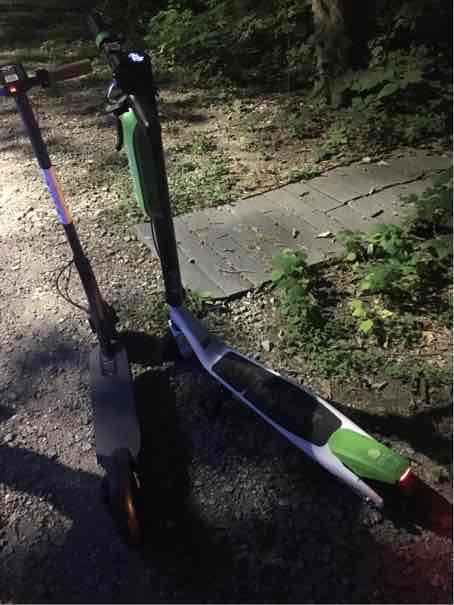scooter: (83, 7, 441, 549)
